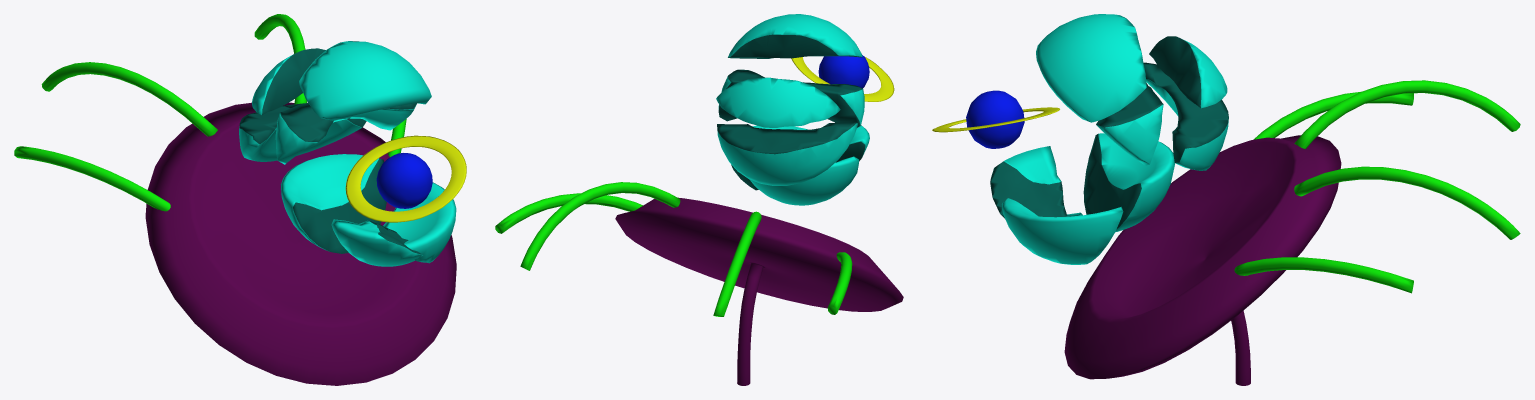
The model's file is plant_03_universsun_state01.gltf.
3 renders of one model, left to right at view 1: azimuth 30°, elevation 25°; view 2: azimuth 150°, elevation 25°; view 3: azimuth 270°, elevation 25°, orthographic. The views are drawn at different scales.
Parts seen in each view (by area): view 1: Cylinder.005, Cylinder.012, Cylinder.006, Cylinder.003, Cylinder.009; view 2: Cylinder.012, Cylinder.005, Cylinder.003, Cylinder.006; view 3: Cylinder.005, Cylinder.012, Cylinder.003, Cylinder.009, Cylinder.006.
Boxes of the visible parts, x1,y1,x2,y2 form: Cylinder.005: [145, 102, 456, 385]; Cylinder.012: [239, 41, 431, 266]; Cylinder.006: [345, 135, 466, 222]; Cylinder.003: [14, 14, 406, 211]; Cylinder.009: [383, 182, 456, 263]; Cylinder.012: [716, 14, 869, 205]; Cylinder.005: [615, 197, 903, 385]; Cylinder.003: [495, 182, 852, 316]; Cylinder.006: [791, 55, 894, 101]; Cylinder.005: [1064, 135, 1341, 385]; Cylinder.012: [990, 14, 1228, 232]; Cylinder.003: [1234, 80, 1520, 293]; Cylinder.009: [1002, 198, 1123, 264]; Cylinder.006: [932, 90, 1059, 148].
Size of the model in its own units: 1.26 by 1.11 by 1.63.
